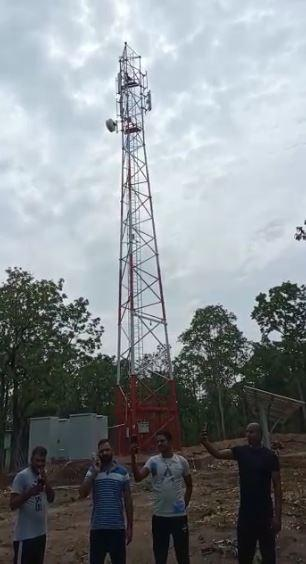Microwave Antenna: (102, 115, 118, 133)
